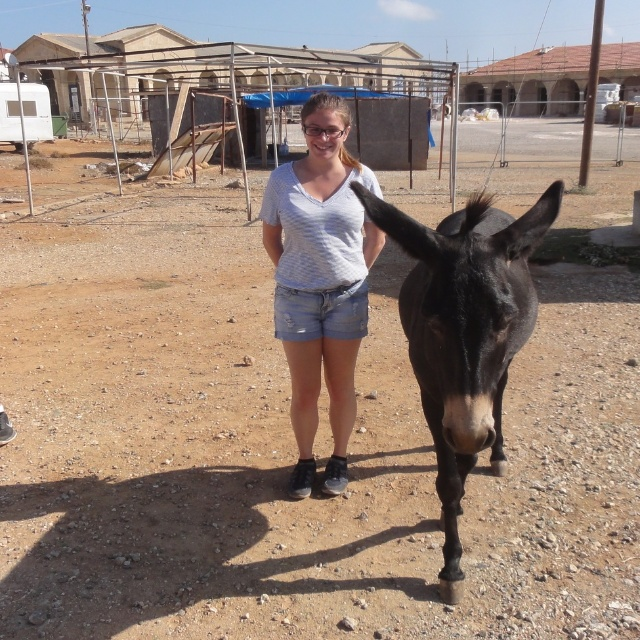Mule: (352, 184, 566, 600)
